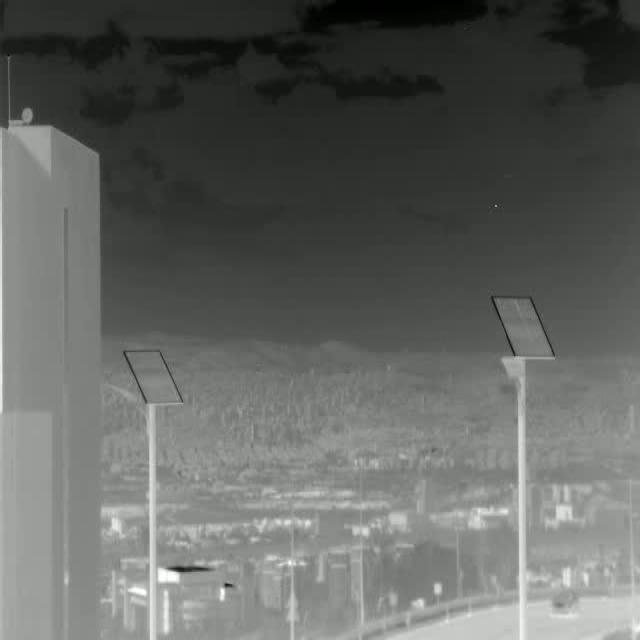Car: (550, 588, 579, 616)
